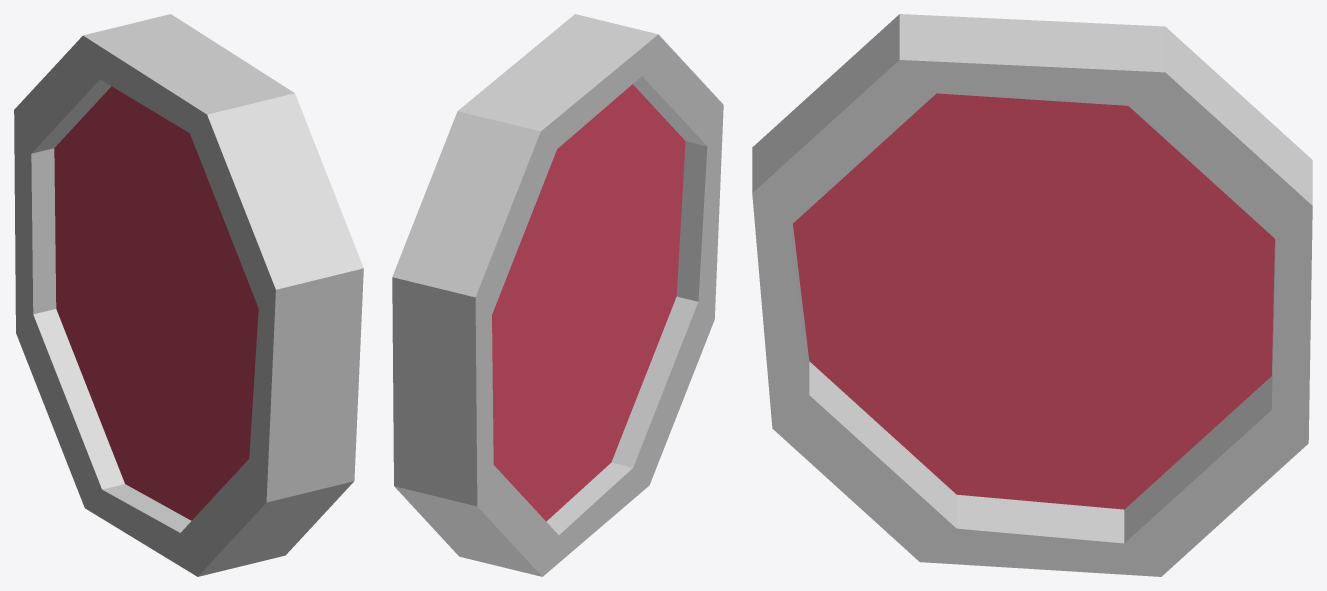
Rendered from MS_Frame4.fbx.
3 views of the same model, side by side, from view 1: azimuth 30°, elevation 25°; view 2: azimuth 150°, elevation 25°; view 3: azimuth 270°, elevation 25° (orthographic). The views are drawn at different scales.
Visible parts, largest first — view 1: Plane.008; view 2: Plane.008; view 3: Plane.008.
Part boxes in pixels (<box>): Plane.008: <box>14,14,363,576</box>; Plane.008: <box>392,14,723,576</box>; Plane.008: <box>752,14,1312,576</box>.
Bounding box in the file's own units: 13.44 × 70.57 × 69.33.
